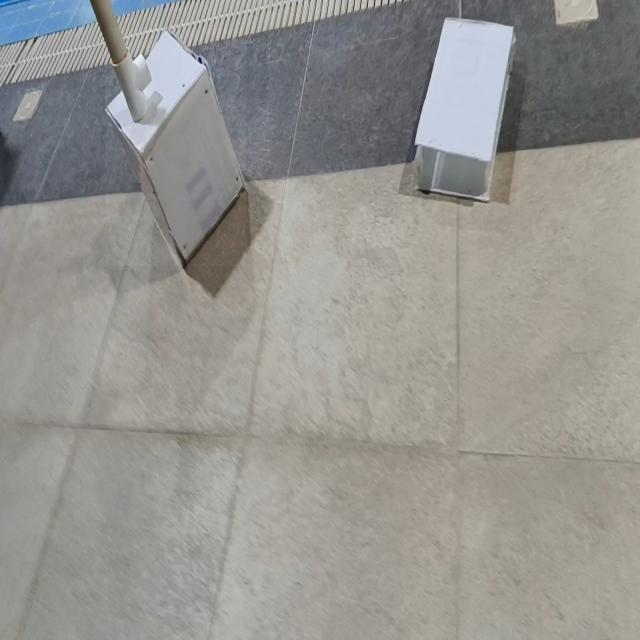Cube: (105, 28, 246, 266)
Cuboid: (413, 14, 515, 202)
